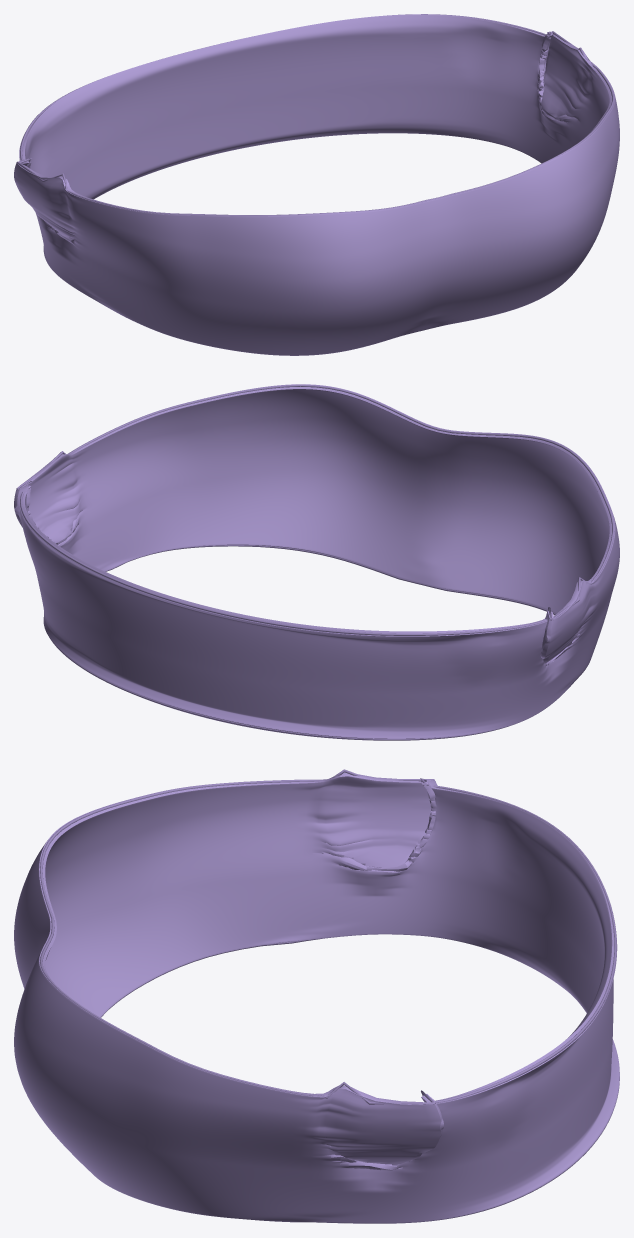
The model's file is Feminine-bandeau-top.glb.
3 renders of one model, top to bottom at view 1: azimuth 30°, elevation 25°; view 2: azimuth 150°, elevation 25°; view 3: azimuth 270°, elevation 25°, orthographic. The views are drawn at different scales.
Parts seen in each view (by area): view 1: Clothing / Bandeau, Top / seated binding191 1 export; view 2: Clothing / Bandeau, Top / seated binding191 1 export, Top / seated binding191 0 export; view 3: Clothing / Bandeau, Top / seated binding191 1 export, Top / seated binding191 0 export.
Part boxes in pixels (x1,y1,x2,y2): Clothing / Bandeau: [14, 14, 619, 355]; Top / seated binding191 1 export: [16, 14, 614, 216]; Clothing / Bandeau: [14, 384, 619, 740]; Top / seated binding191 1 export: [16, 384, 614, 635]; Top / seated binding191 0 export: [50, 545, 555, 740]; Clothing / Bandeau: [14, 772, 619, 1223]; Top / seated binding191 1 export: [40, 769, 616, 1104]; Top / seated binding191 0 export: [101, 934, 619, 1223].
Size of the model in its own units: 0.6455 by 0.1811 by 0.5079.
